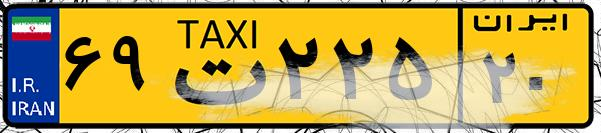0: (525, 38, 570, 115)
2: (270, 28, 330, 110), (330, 28, 385, 110), (475, 38, 525, 113)
5: (385, 28, 445, 110)
6: (57, 26, 110, 100)
9: (110, 28, 158, 98)
ت: (158, 12, 270, 120)
